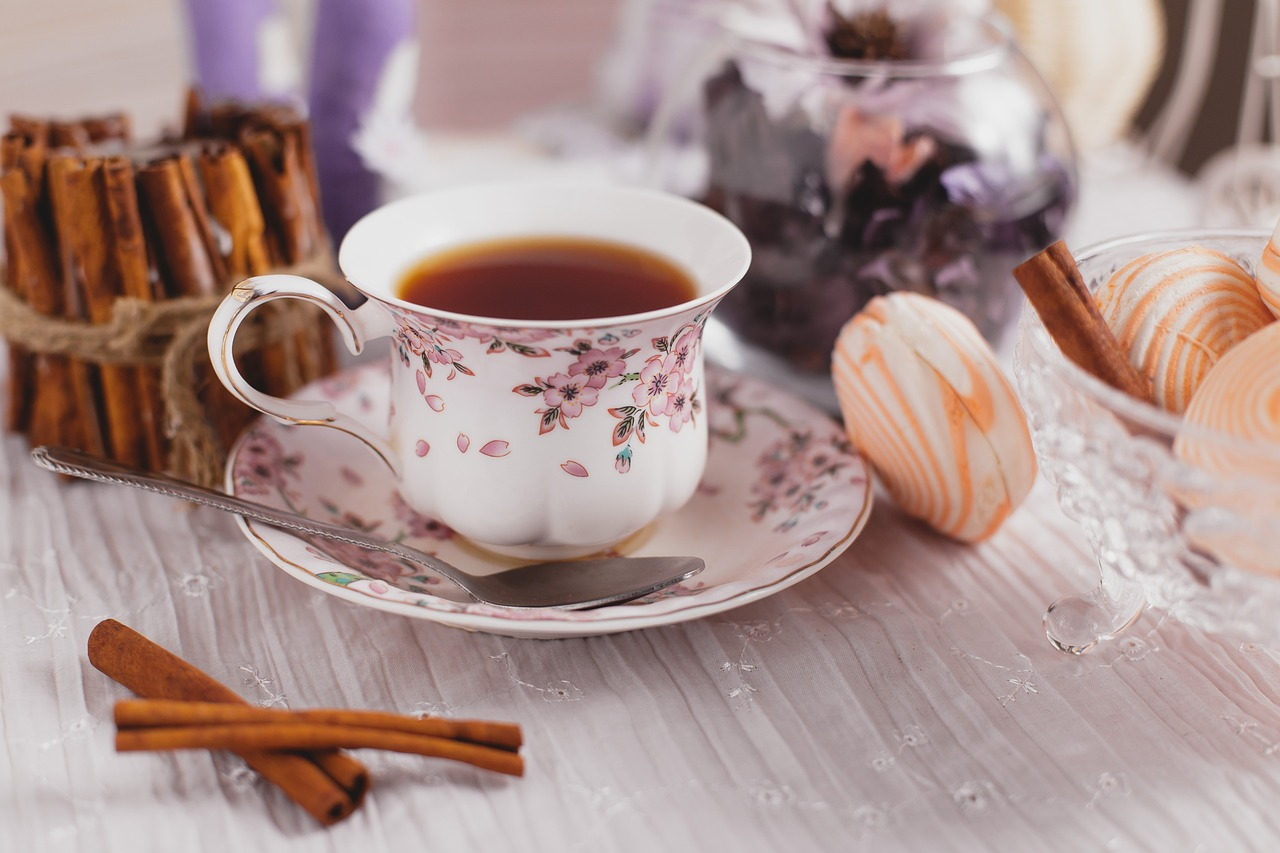mug: (218, 171, 775, 528)
